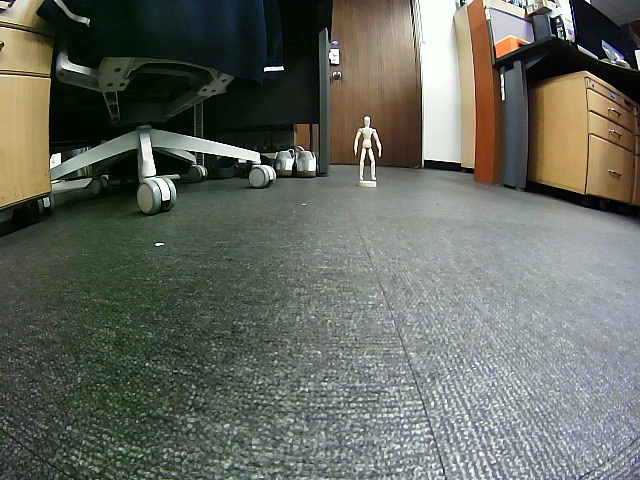person: (354, 116, 381, 182)
